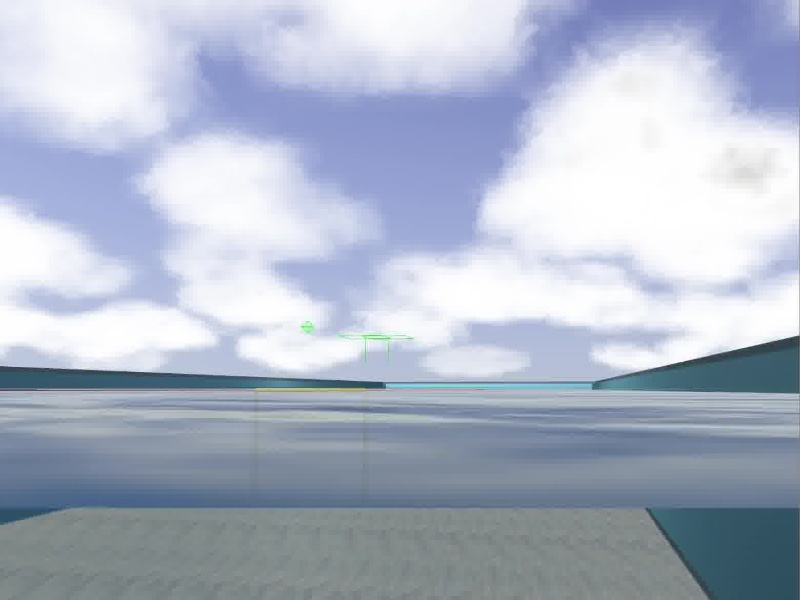gate: (250, 384, 368, 497)
